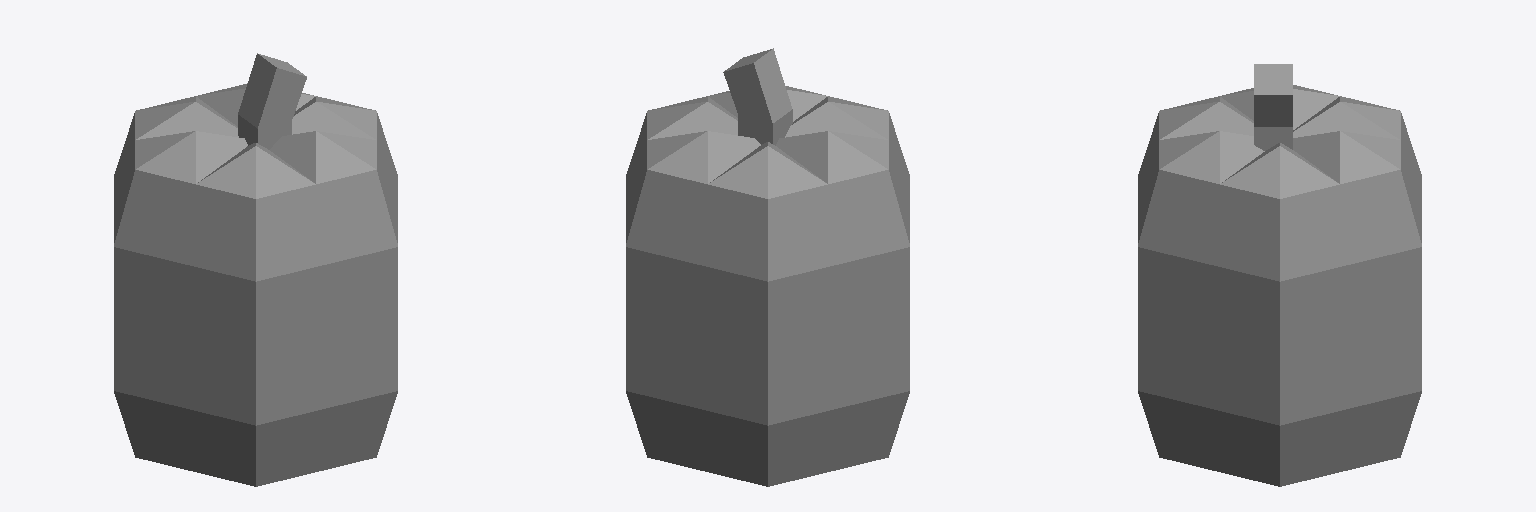
The model's file is pumpkin_04_02_c.obj.
3 views of the same model, side by side, from view 1: azimuth 30°, elevation 25°; view 2: azimuth 150°, elevation 25°; view 3: azimuth 270°, elevation 25° (orthographic).
Visible parts, largest first — view 1: pumpkin_04_02_c; view 2: pumpkin_04_02_c; view 3: pumpkin_04_02_c.
Part boxes in pixels (bbox=[...]): pumpkin_04_02_c: bbox=[114, 53, 397, 486]; pumpkin_04_02_c: bbox=[626, 48, 909, 486]; pumpkin_04_02_c: bbox=[1138, 64, 1421, 486].
Size of the model in its own units: 2.06 by 2.71 by 1.79.